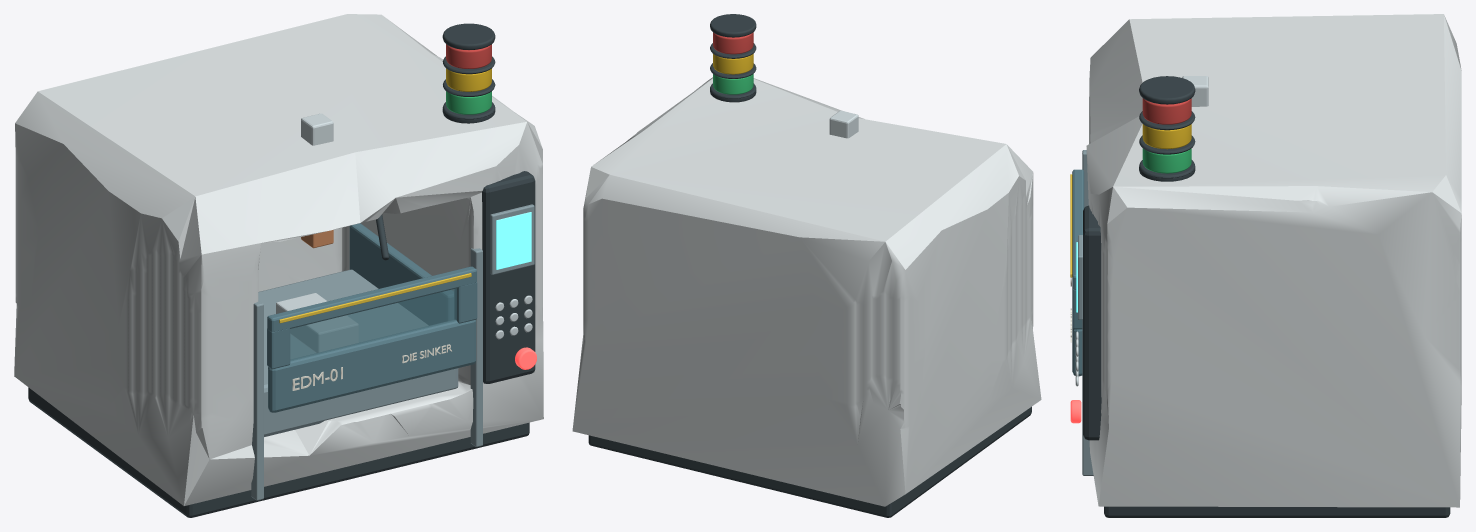
File: edm.glb
3 renders of one model, left to right at view 1: azimuth 30°, elevation 25°; view 2: azimuth 150°, elevation 25°; view 3: azimuth 270°, elevation 25°, orthographic. The views are drawn at different scales.
Parts seen in each view (by area): view 1: edm-depth-enclosure, gate-apron, dielectric-basin, control-column, machine-plinth, gate-window, basin-wall.001, gate-window-rail, fixture-block, gate-guide, gate-guide.001, controller-screen (+9 smaller); view 2: edm-depth-enclosure, machine-plinth, status-lamp-cap, z-ram, StatusRed, StatusYellow, StatusGreen; view 3: edm-depth-enclosure, control-column, machine-plinth, status-lamp-cap, gate-window-rail, StatusRed, StatusGreen, StatusYellow, z-ram, gate-guide.001.
Part boxes in pixels (x1,y1,x2,y2): edm-depth-enclosure: [14, 14, 543, 505]; gate-apron: [268, 319, 475, 412]; dielectric-basin: [258, 269, 458, 436]; control-column: [482, 171, 535, 383]; machine-plinth: [28, 387, 529, 517]; gate-window: [290, 288, 456, 361]; basin-wall.001: [349, 223, 453, 325]; gate-window-rail: [267, 266, 476, 331]; fixture-block: [276, 293, 358, 352]; gate-guide: [251, 300, 263, 500]; gate-guide.001: [470, 248, 482, 446]; controller-screen: [496, 212, 531, 269]; edm-depth-enclosure: [572, 77, 1041, 506]; machine-plinth: [588, 406, 1031, 517]; status-lamp-cap: [710, 14, 756, 37]; z-ram: [829, 110, 858, 138]; StatusRed: [713, 32, 753, 54]; StatusYellow: [713, 54, 753, 74]; StatusGreen: [713, 74, 753, 94]; edm-depth-enclosure: [1086, 14, 1461, 507]; control-column: [1083, 205, 1101, 440]; machine-plinth: [1104, 506, 1450, 517]; status-lamp-cap: [1139, 76, 1195, 104]; gate-window-rail: [1072, 169, 1084, 289]; StatusRed: [1142, 98, 1191, 124]; StatusGreen: [1142, 148, 1191, 173]; StatusYellow: [1142, 124, 1191, 149]; z-ram: [1182, 76, 1208, 106]; gate-guide.001: [1082, 319, 1093, 475].
Bounding box in the file's own units: 3.92 × 3.92 × 3.35.
